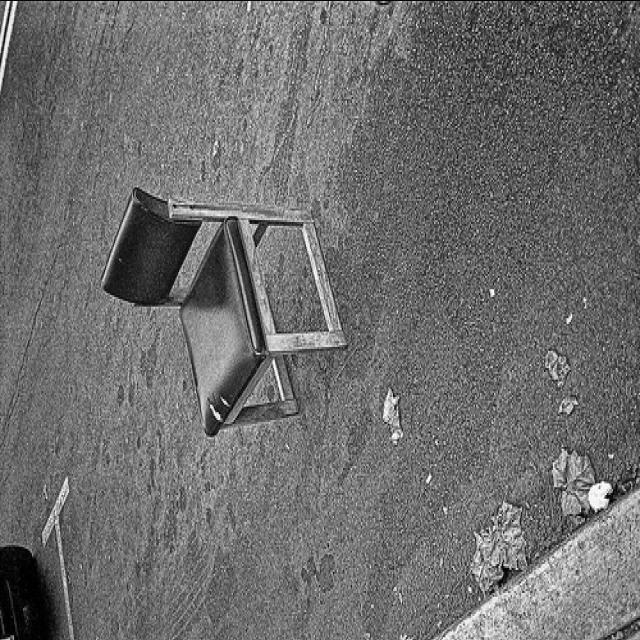chair: (100, 182, 347, 442)
